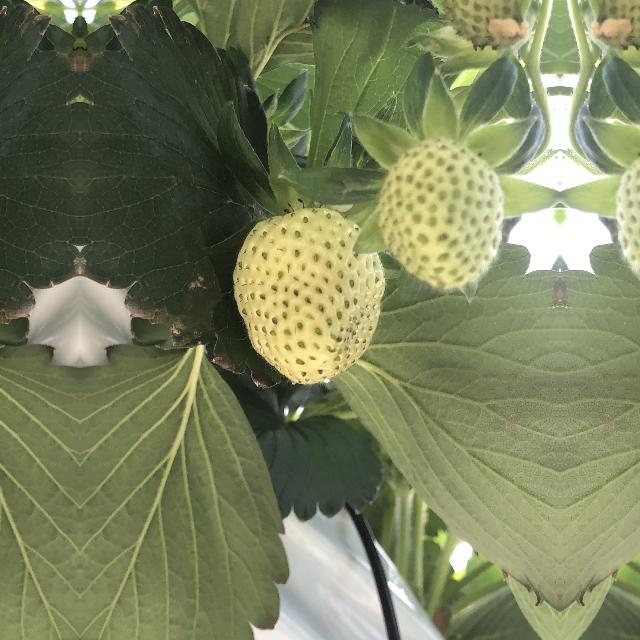Health_25: (224, 209, 390, 385), (378, 140, 506, 290), (614, 140, 640, 289)
